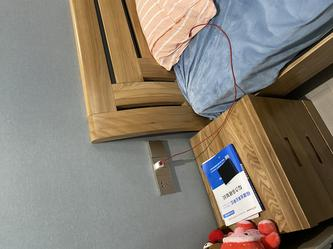switch: (150, 142, 173, 155)
